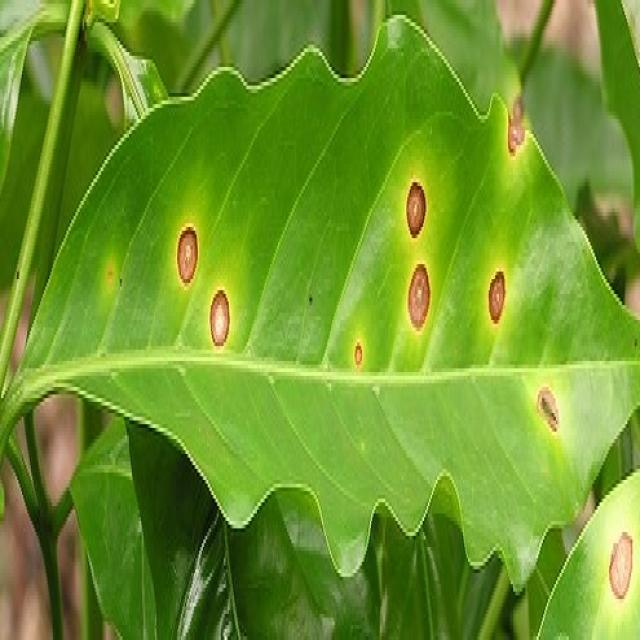Enfermedad-Mancha-de-hierro: (8, 15, 640, 595)
